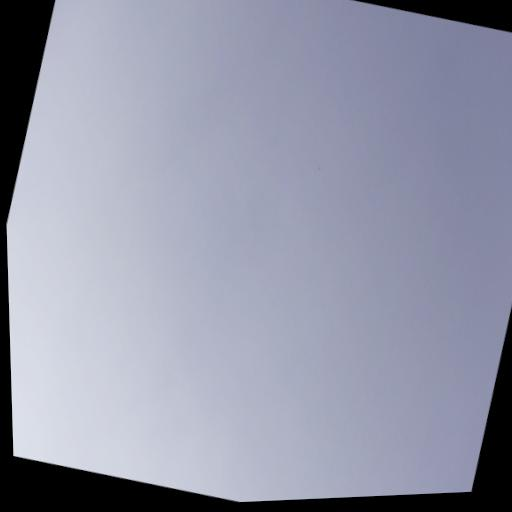drones: (317, 165, 322, 172)
